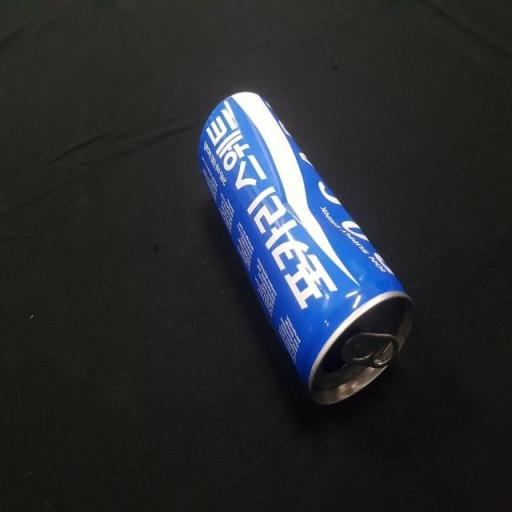metal: (188, 70, 424, 451)
